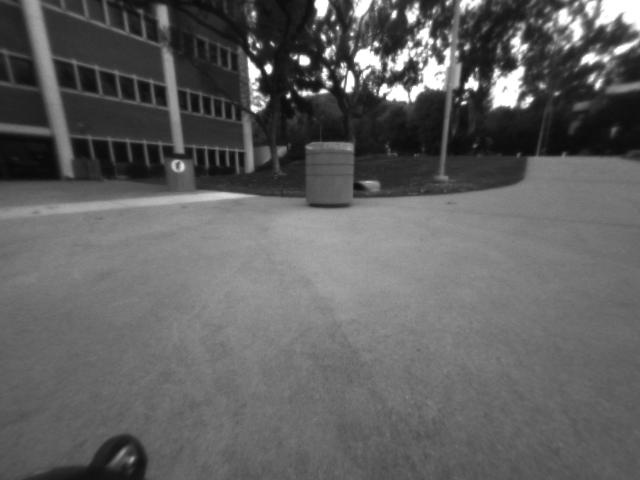trashcan: (300, 136, 359, 213), (161, 146, 201, 195)
